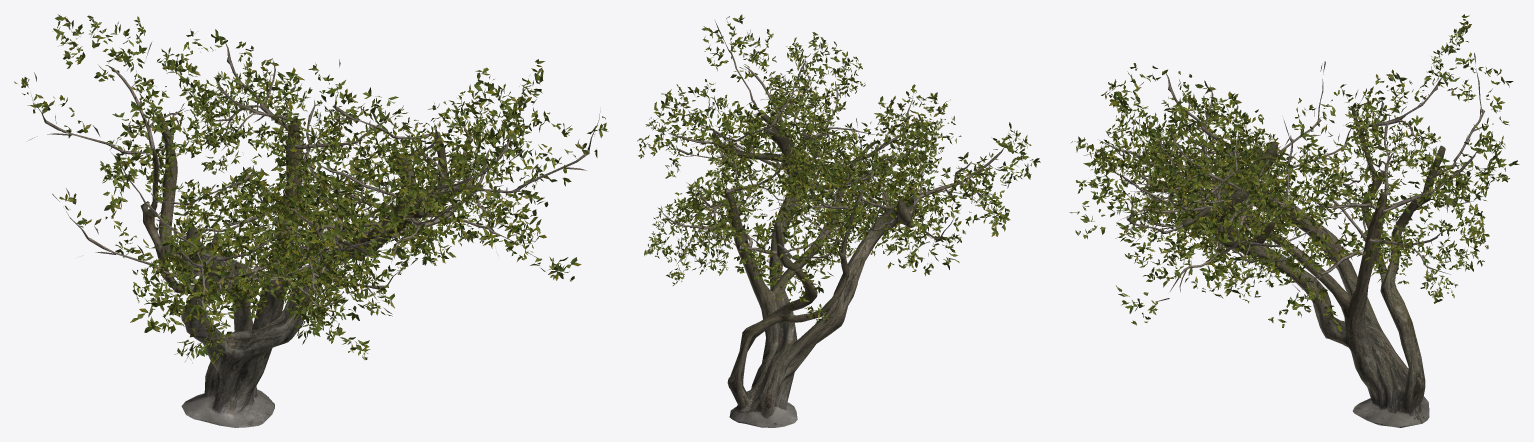
The model's file is island_tree_02.glb.
3 views of the same model, side by side, from view 1: azimuth 30°, elevation 25°; view 2: azimuth 150°, elevation 25°; view 3: azimuth 270°, elevation 25° (orthographic). The views are drawn at different scales.
Visible parts, largest first — view 1: island_tree_02_LOD0; view 2: island_tree_02_LOD0; view 3: island_tree_02_LOD0.
Part boxes in pixels (<box>): island_tree_02_LOD0: <box>14,14,608,427</box>; island_tree_02_LOD0: <box>637,14,1040,427</box>; island_tree_02_LOD0: <box>1069,14,1519,427</box>.
Bounding box in the file's own units: 3.99 × 3.4 × 4.08.
Materials: 3 (3 with a texture image).
